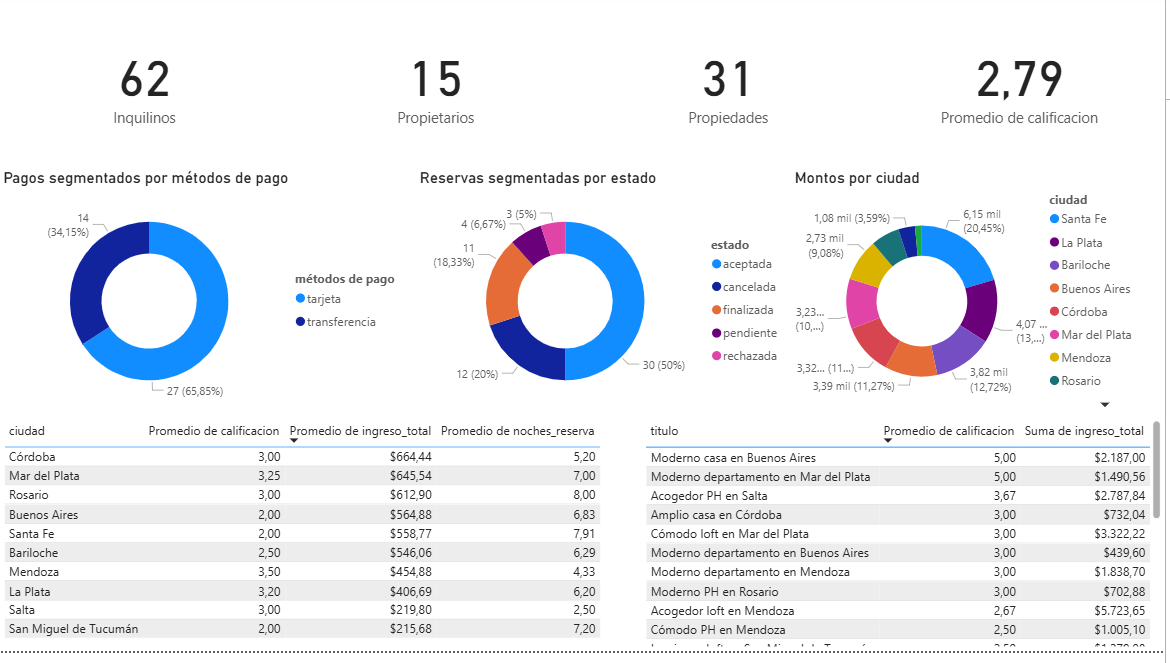

The page's visual inventory and layout, read from the dashboard file:
{"tool":"powerbi","page":{"name":"Página 1","canvas":[1280,720],"ordinal":0},"visuals":[{"type":"tableEx","fields":{"Values":["heyroommate propiedades.ciudad","Avg(heyroommate hechos_reservas.calificacion)","Avg(heyroommate hechos_reservas.ingreso_total)","Avg(heyroommate hechos_reservas.noches_reserva)"]},"box":[0,462.4,672.4,258],"z":0},{"type":"donutChart","fields":{"Y":["CountNonNull(heyroommate pagos.metodo_pago)"],"Category":["heyroommate pagos.metodo_pago"]},"box":[0,190.7,456.9,271.7],"z":1000},{"type":"tableEx","fields":{"Values":["heyroommate propiedades.titulo","Avg(heyroommate hechos_reservas.calificacion)","Sum(heyroommate hechos_reservas.ingreso_total)"]},"box":[703.9,462.4,576.3,258],"z":2000},{"type":"donutChart","fields":{"Category":["heyroommate reservas.estado"],"Y":["CountNonNull(heyroommate reservas.id_reserva)"]},"box":[456.9,190.7,411.7,271.7],"z":3000},{"type":"donutChart","fields":{"Y":["Sum(heyroommate pagos.monto)"],"Category":["heyroommate propiedades.ciudad"]},"box":[868.6,190.7,410.3,271.7],"z":4000},{"type":"card","fields":{"Values":["CountNonNull(heyroommate usuarios.id_usuario)"]},"box":[0,0,319.7,190.7],"z":4001},{"type":"card","fields":{"Values":["Avg(heyroommate resenas.calificacion)"]},"box":[960.3,0,319.7,190.7],"z":4002},{"type":"card","fields":{"Values":["CountNonNull(heyroommate propiedades.id_propiedad)"]},"box":[640.8,0,319.7,190.7],"z":4003},{"type":"card","fields":{"Values":["CountNonNull(heyroommate usuarios.id_usuario)"]},"box":[319.7,0,319.7,190.7],"z":4004}]}

Visuals, with their boxes in screenshot pixels (x1, y1, x2, y2), scaled from the page's 1280x720 canvas onto the 1170x663 screenshot:
tableEx - heyroommate propiedades.ciudad x Avg(heyroommate hechos_reservas.calificacion): pyautogui.locateOnScreen(0, 426, 615, 662)
donutChart - CountNonNull(heyroommate pagos.metodo_pago) x heyroommate pagos.metodo_pago: pyautogui.locateOnScreen(0, 176, 418, 426)
tableEx - heyroommate propiedades.titulo x Avg(heyroommate hechos_reservas.calificacion): pyautogui.locateOnScreen(643, 426, 1169, 662)
donutChart - heyroommate reservas.estado x CountNonNull(heyroommate reservas.id_reserva): pyautogui.locateOnScreen(418, 176, 794, 426)
donutChart - Sum(heyroommate pagos.monto) x heyroommate propiedades.ciudad: pyautogui.locateOnScreen(794, 176, 1169, 426)
card - CountNonNull(heyroommate usuarios.id_usuario): pyautogui.locateOnScreen(0, 0, 292, 176)
card - Avg(heyroommate resenas.calificacion): pyautogui.locateOnScreen(878, 0, 1169, 176)
card - CountNonNull(heyroommate propiedades.id_propiedad): pyautogui.locateOnScreen(586, 0, 878, 176)
card - CountNonNull(heyroommate usuarios.id_usuario): pyautogui.locateOnScreen(292, 0, 584, 176)
